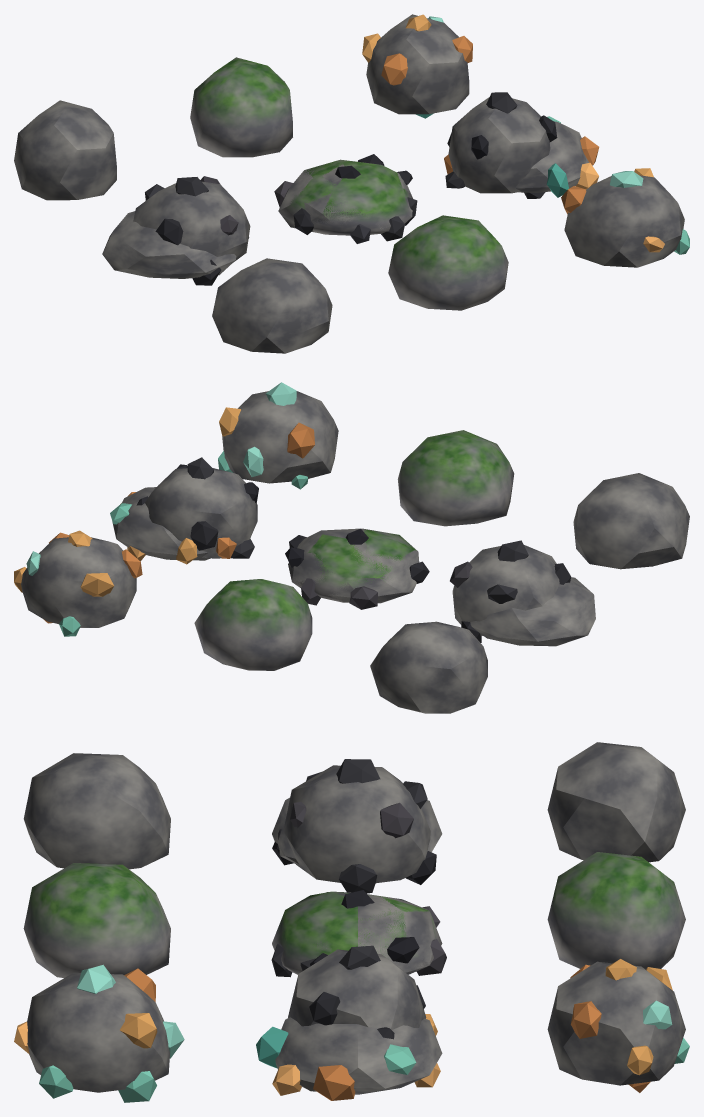
Rendered from boulder.glb.
3 renders of one model, top to bottom at view 1: azimuth 30°, elevation 25°; view 2: azimuth 150°, elevation 25°; view 3: azimuth 270°, elevation 25°, orthographic. The views are drawn at different scales.
Visible parts, largest first — view 1: boulder_a_copper, boulder_a, boulder_a_mossy, boulder_c_copper, boulder_c_mossy, boulder_c, boulder_c_coal, boulder_a_coal, boulder_b_mossy, boulder_b, boulder_b_coal, boulder_b_copper; view 2: boulder_a_copper, boulder_c_copper, boulder_a, boulder_a_mossy, boulder_c_mossy, boulder_c, boulder_c_coal, boulder_a_coal, boulder_b_coal, boulder_b, boulder_b_mossy, boulder_b_copper; view 3: boulder_a_copper, boulder_a_coal, boulder_c_copper, boulder_a, boulder_a_mossy, boulder_c, boulder_c_mossy, boulder_b_copper, boulder_c_coal, boulder_b_mossy, boulder_b_coal, boulder_b.
Part boxes in pixels (x1,y1,x2,y2): boulder_a_copper: (561, 168, 689, 267); boulder_a: (212, 258, 332, 353); boulder_a_mossy: (388, 215, 508, 310); boulder_c_copper: (362, 14, 472, 118); boulder_c_mossy: (190, 57, 292, 157); boulder_c: (14, 100, 116, 200); boulder_c_coal: (445, 92, 557, 198); boulder_a_coal: (133, 176, 250, 285); boulder_b_mossy: (278, 159, 412, 235); boulder_b: (102, 211, 236, 278); boulder_b_coal: (274, 154, 417, 243); boulder_b_copper: (444, 116, 599, 197); boulder_a_copper: (218, 382, 338, 489); boulder_c_copper: (14, 530, 142, 636); boulder_a: (573, 473, 689, 569); boulder_a_mossy: (397, 430, 514, 526); boulder_c_mossy: (194, 579, 312, 670); boulder_c: (370, 621, 487, 713); boulder_c_coal: (136, 457, 258, 558); boulder_a_coal: (450, 540, 570, 642); boulder_b_coal: (285, 528, 429, 609); boulder_b: (470, 577, 595, 646); boulder_b_mossy: (291, 529, 416, 603); boulder_b_copper: (110, 487, 236, 564); boulder_a_copper: (14, 964, 184, 1102); boulder_a_coal: (272, 759, 436, 893); boulder_c_copper: (547, 959, 689, 1092); boulder_a: (23, 753, 170, 869); boulder_a_mossy: (23, 863, 170, 977); boulder_c: (547, 742, 685, 862); boulder_c_mossy: (547, 852, 685, 969); boulder_b_copper: (256, 1014, 442, 1100); boulder_c_coal: (288, 945, 426, 1039); boulder_b_mossy: (272, 891, 442, 974); boulder_b_coal: (271, 890, 446, 977); boulder_b: (272, 797, 442, 864).
Size of the model in its own units: 4.84 by 0.9369 by 4.69.
Materials: 14 (12 with a texture image).
